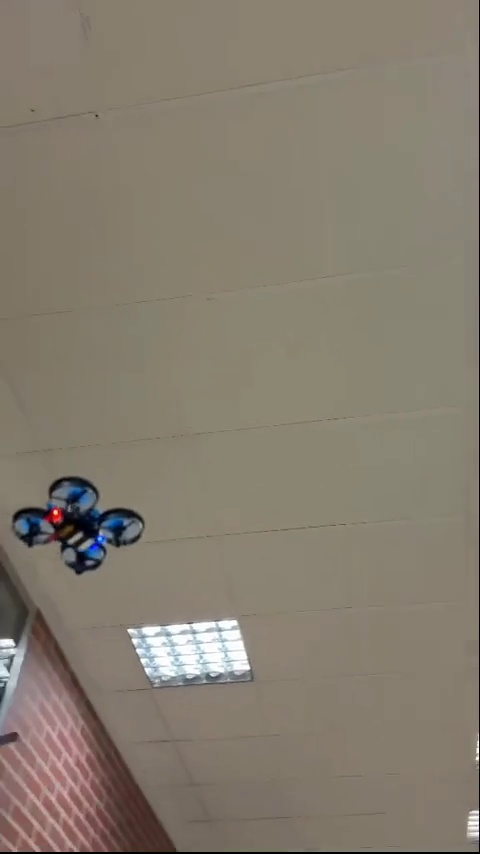drone: (15, 475, 146, 577)
